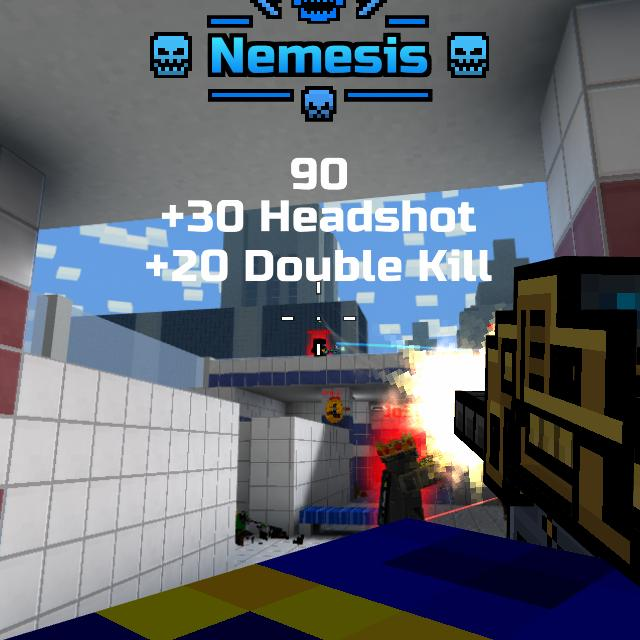Enemy: (379, 436, 442, 524), (310, 338, 329, 357)
